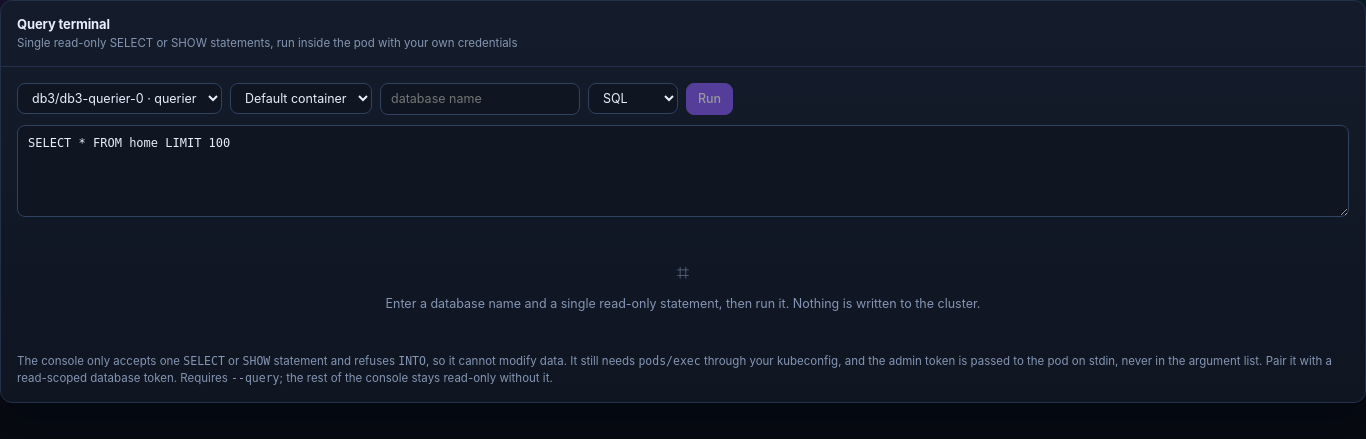
Scenario: renders the returned rows and the redaction marker
This screenshot has width=1366, height=439.
Type "mydb" into the field labelled "database name" at (480, 99), box [380,82,580,115]
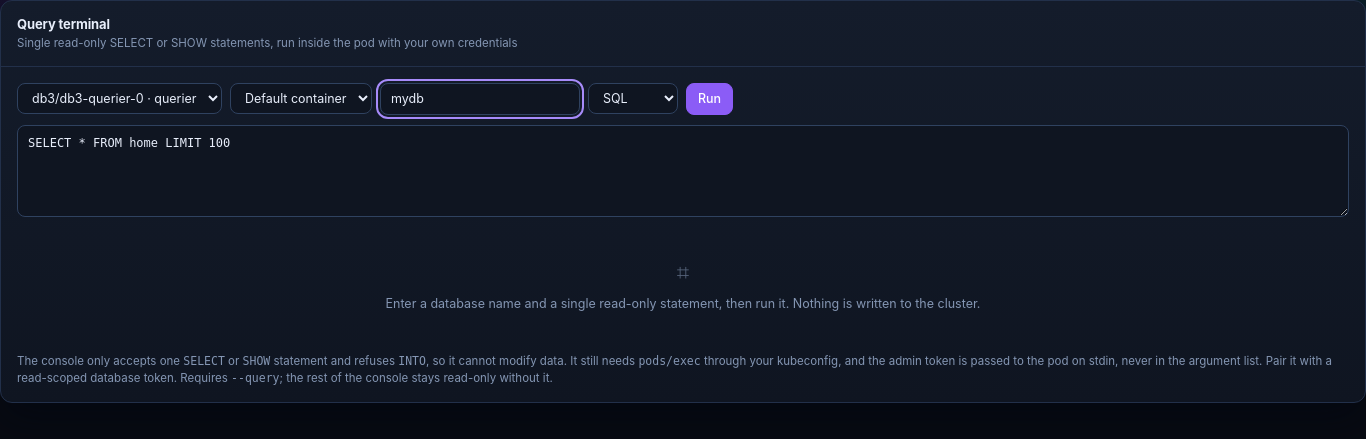
Click the button "Run" at (710, 99), box [686,82,733,115]
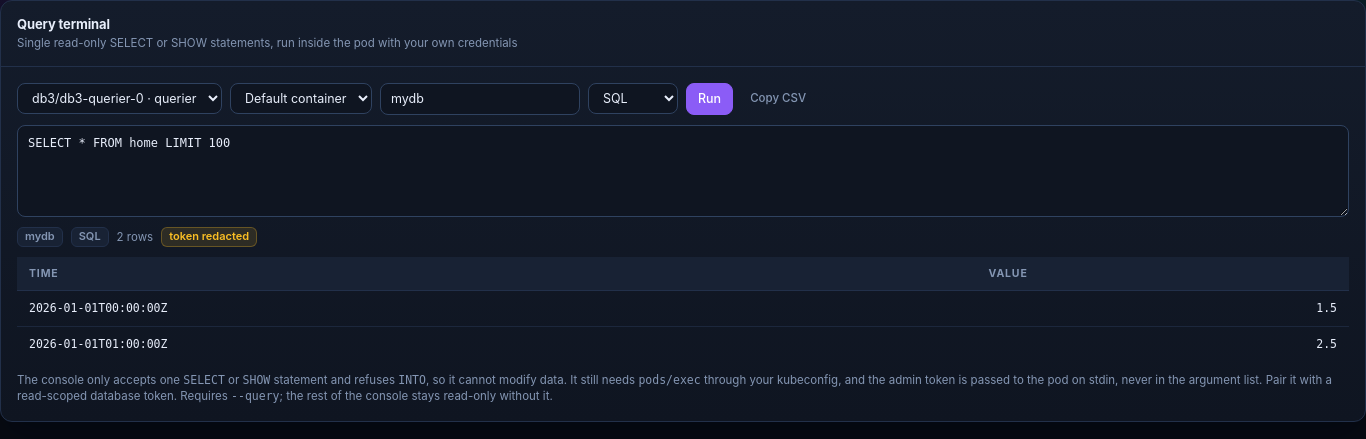
Result: the text "2026-01-01T00:00:00Z" is shown at [17,291,977,326]
Result: the text "2 rows" is shown at [117,229,153,245]
Result: the text "token redacted" is shown at [161,227,257,247]
